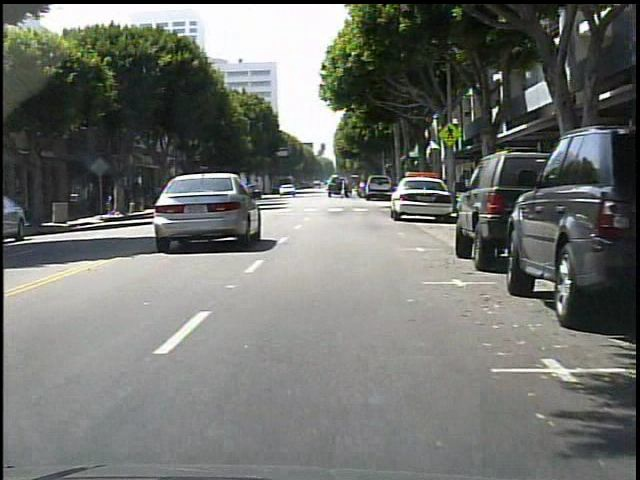person: (81, 180, 92, 213), (122, 186, 132, 214), (114, 184, 123, 212), (344, 176, 345, 197)
